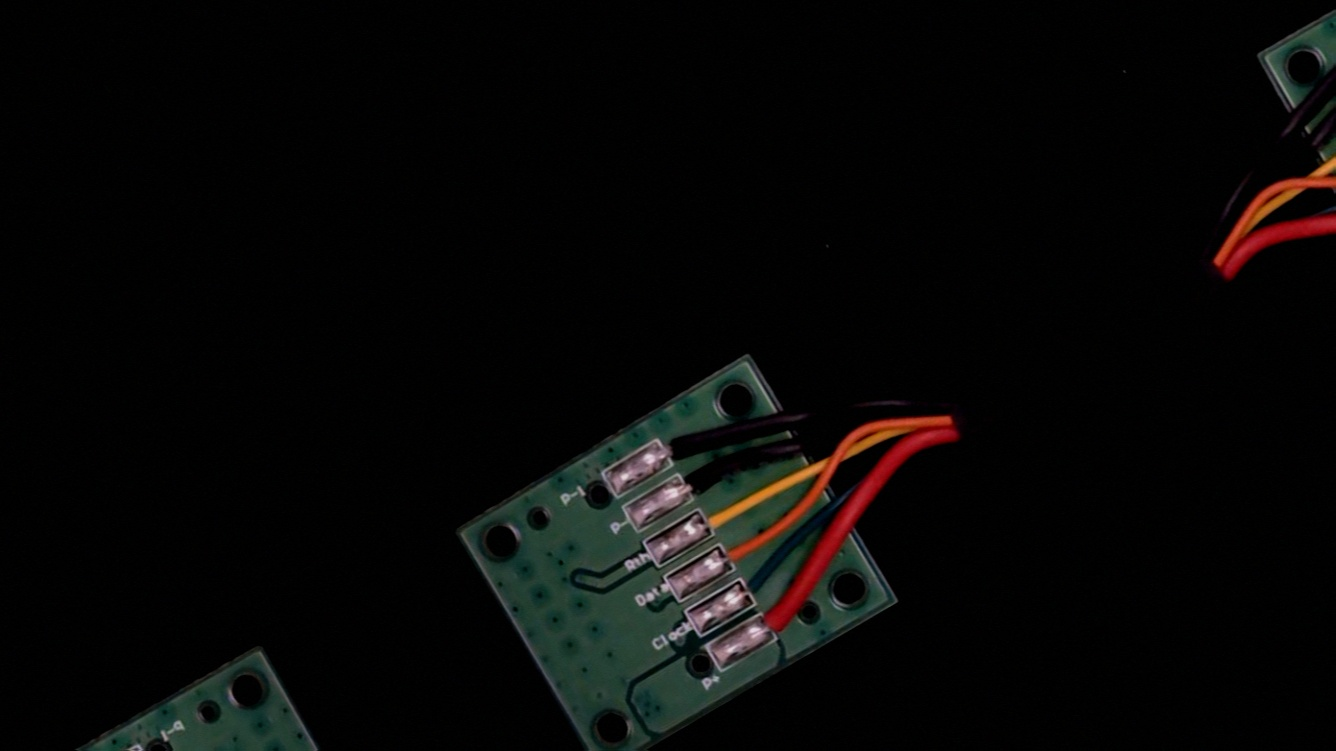Black: (663, 448, 739, 511)
Black1: (642, 417, 711, 475)
Green: (726, 557, 797, 616)
Orange: (706, 522, 777, 580)
Red: (749, 583, 827, 648)
Yellow: (683, 483, 761, 546)
